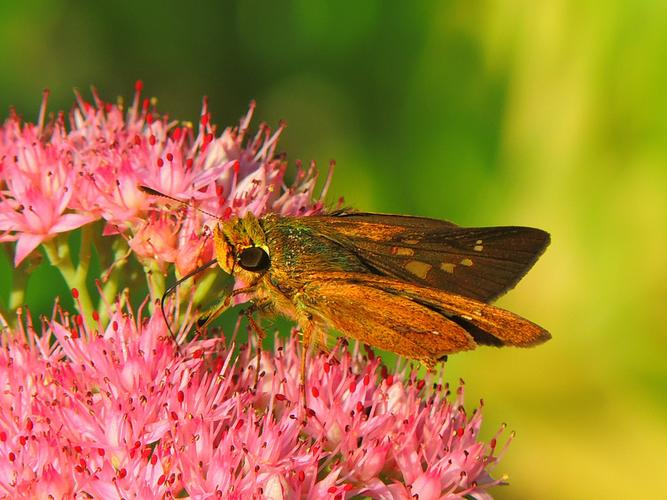Hesperiidae: (137, 187, 572, 378)
